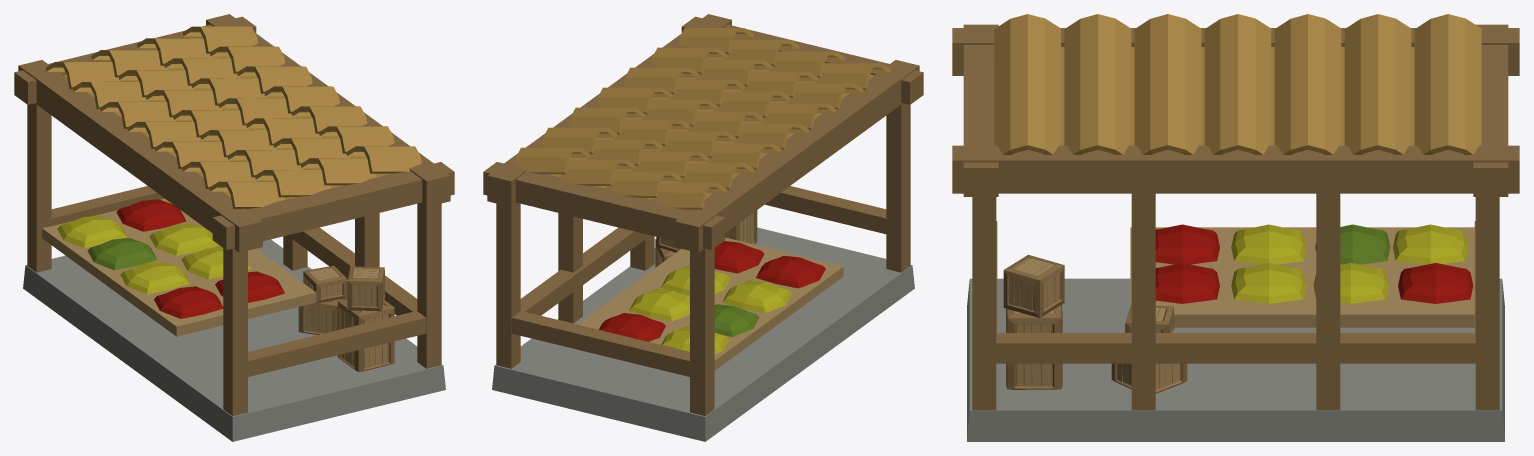
File: Stall_4.fbx
3 views of the same model, side by side, from view 1: azimuth 30°, elevation 25°; view 2: azimuth 150°, elevation 25°; view 3: azimuth 270°, elevation 25° (orthographic). The views are drawn at different scales.
Visible parts, largest first — view 1: Market_SecondAge_Level3; view 2: Market_SecondAge_Level3; view 3: Market_SecondAge_Level3.
Part boxes in pixels (x1=…): Market_SecondAge_Level3: x1=14, y1=14, x2=454, y2=441; Market_SecondAge_Level3: x1=483, y1=14, x2=923, y2=441; Market_SecondAge_Level3: x1=952, y1=14, x2=1519, y2=441.
Bounding box in the file's own units: 0.5872 × 0.5898 × 0.9832.
